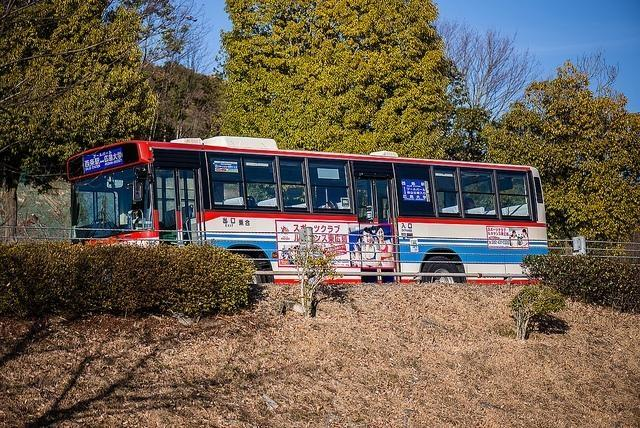bus: (66, 138, 550, 286)
